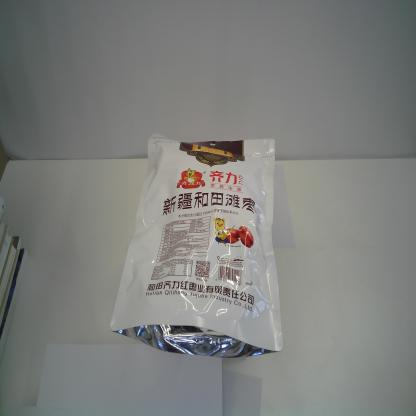Dried Food: (107, 130, 285, 363)
